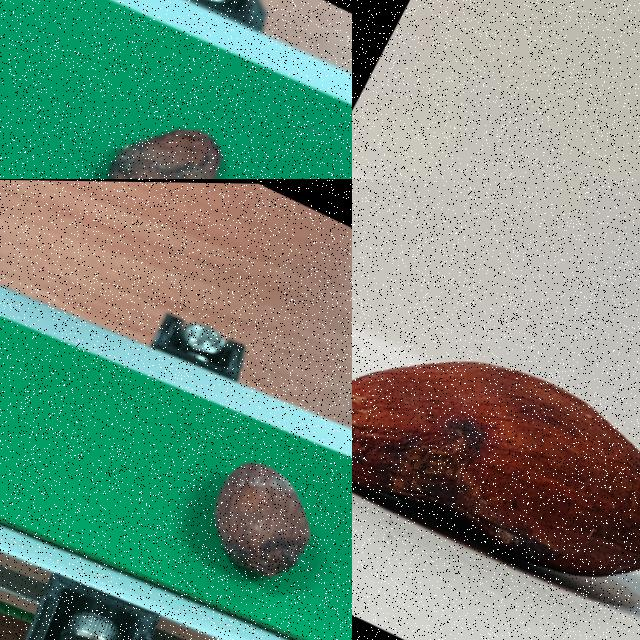Agglomerated_cocoabeans: (352, 130, 639, 178)
Fine_cocoabeans: (352, 256, 639, 639), (81, 384, 351, 639)
Flat_cocoabeans: (19, 64, 320, 178)
